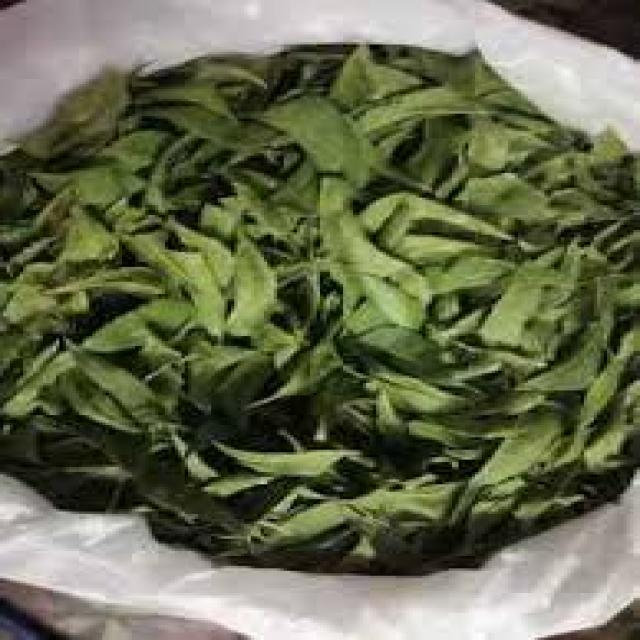Neem-Tree: (103, 142, 561, 454)
